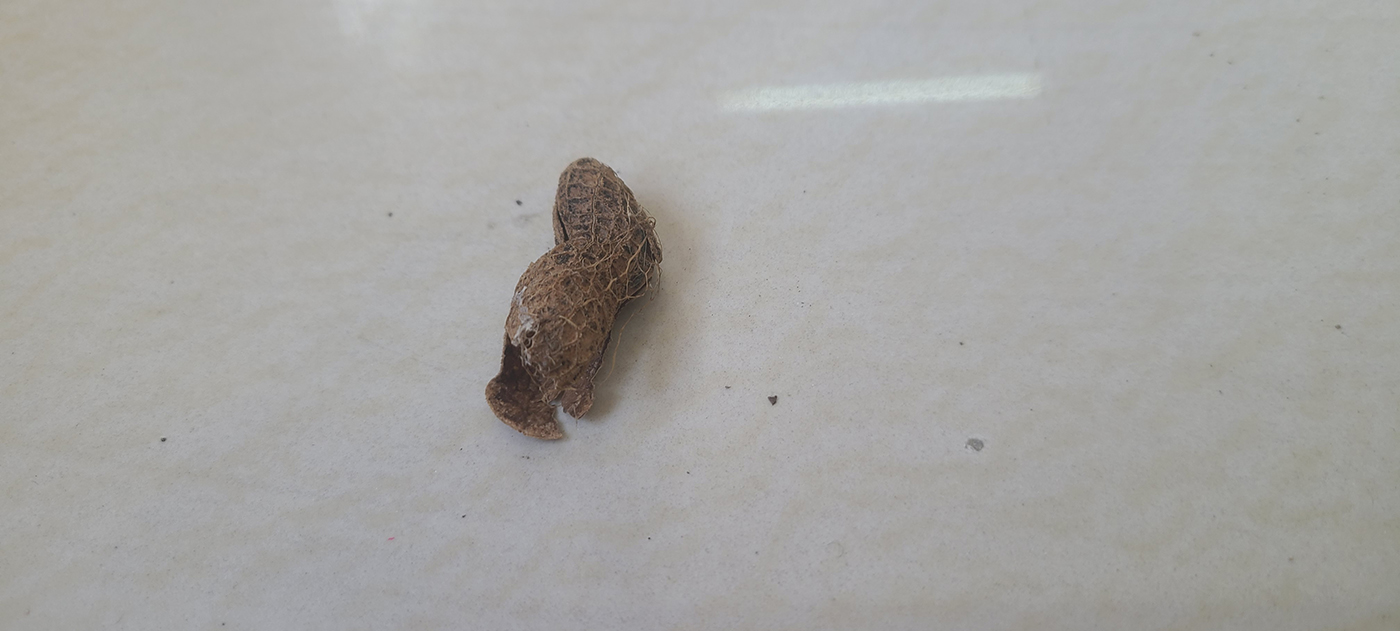l: (481, 152, 662, 444)
